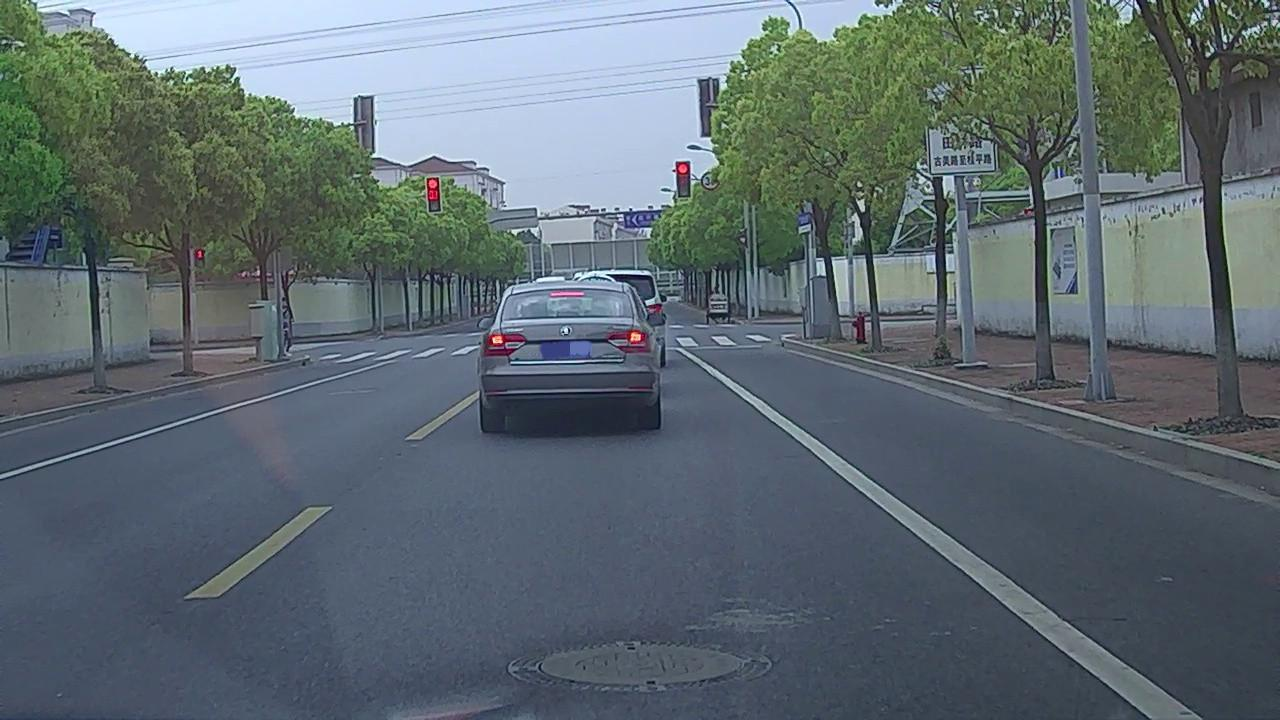traffic_light: (674, 162, 690, 199), (427, 178, 441, 211)
